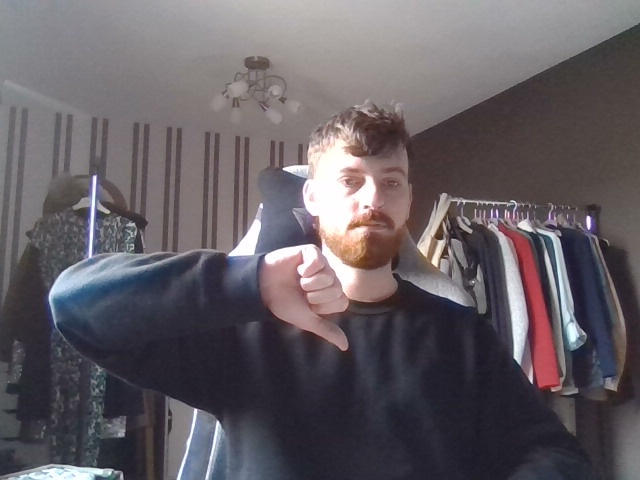Thumbs Down: (251, 225, 362, 360)
